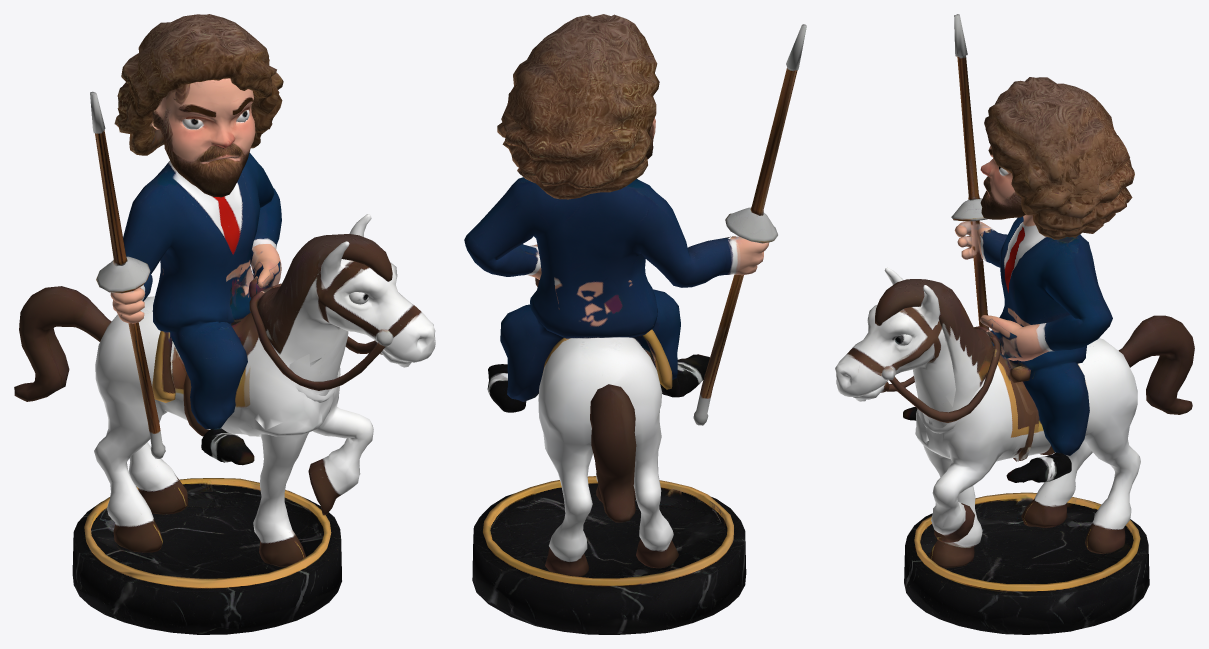
Rendered from right-knight.glb.
3 renders of one model, left to right at view 1: azimuth 30°, elevation 25°; view 2: azimuth 150°, elevation 25°; view 3: azimuth 270°, elevation 25°, orthographic. The views are drawn at different scales.
Size of the model in its own units: 0.5488 by 1 by 0.6523.
1 material, 1 textured.
